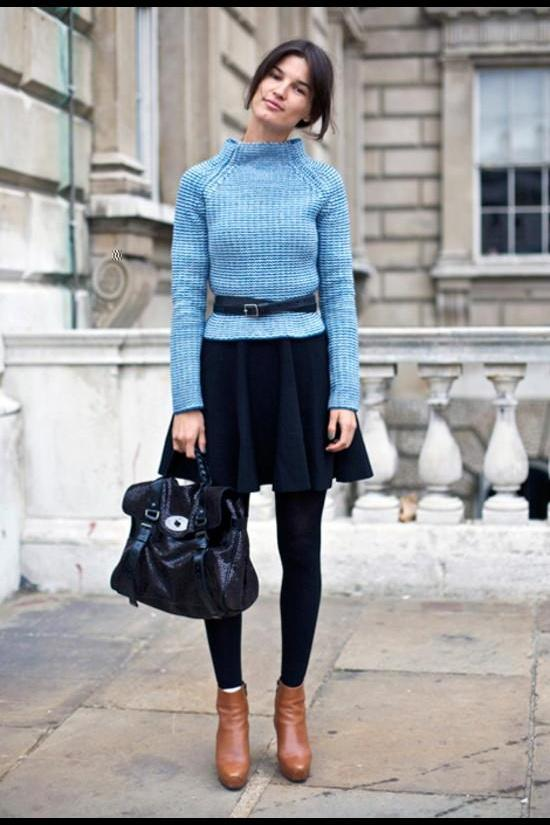skirt: (156, 326, 374, 492)
sweater: (170, 138, 361, 416)
